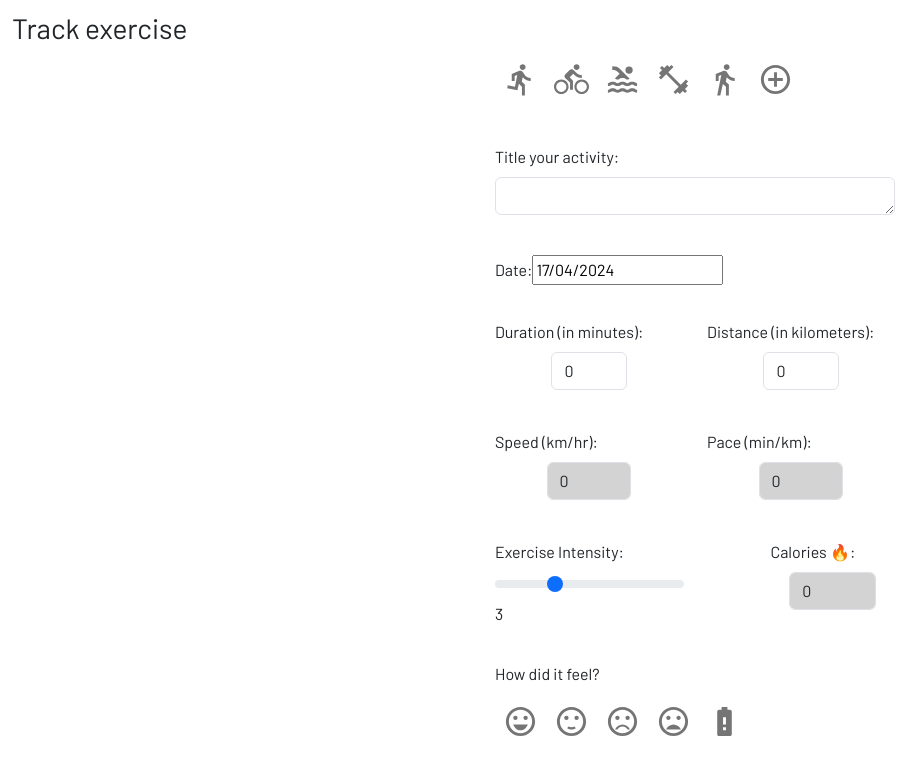
Test: TrackExercise Component › speed calculates correctly
Replace the text in the number field labelled "Distance (in kilometers):" with "10" at (801,371), box x1=763 y1=352 x2=839 y2=390
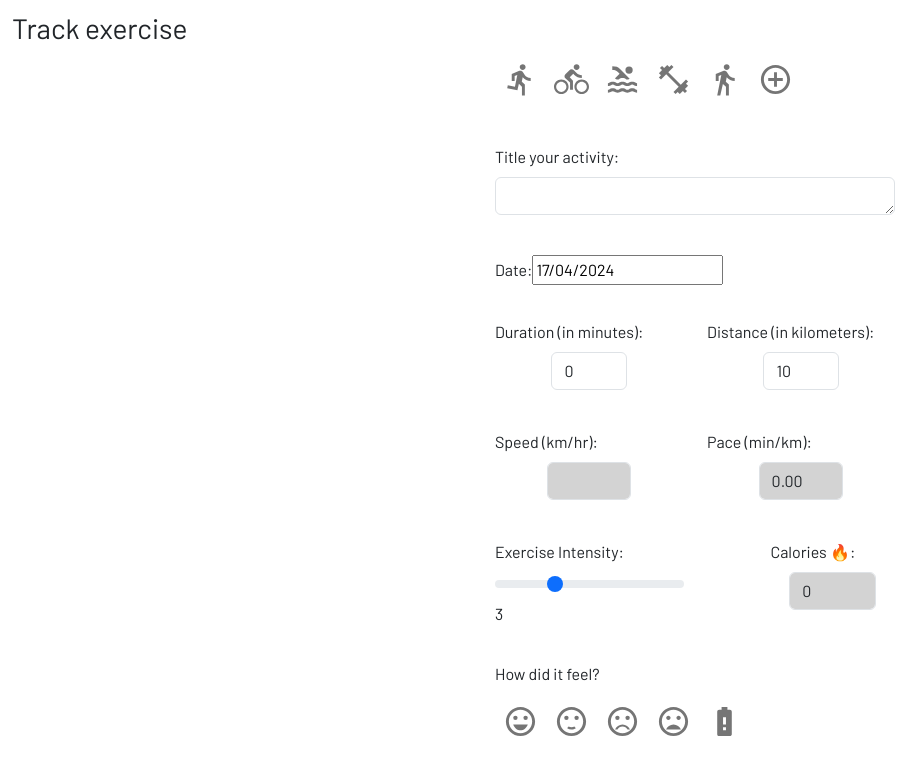
Replace the text in the number field labelled "Duration (in minutes):" with "60" at (589,371), box x1=551 y1=352 x2=627 y2=390
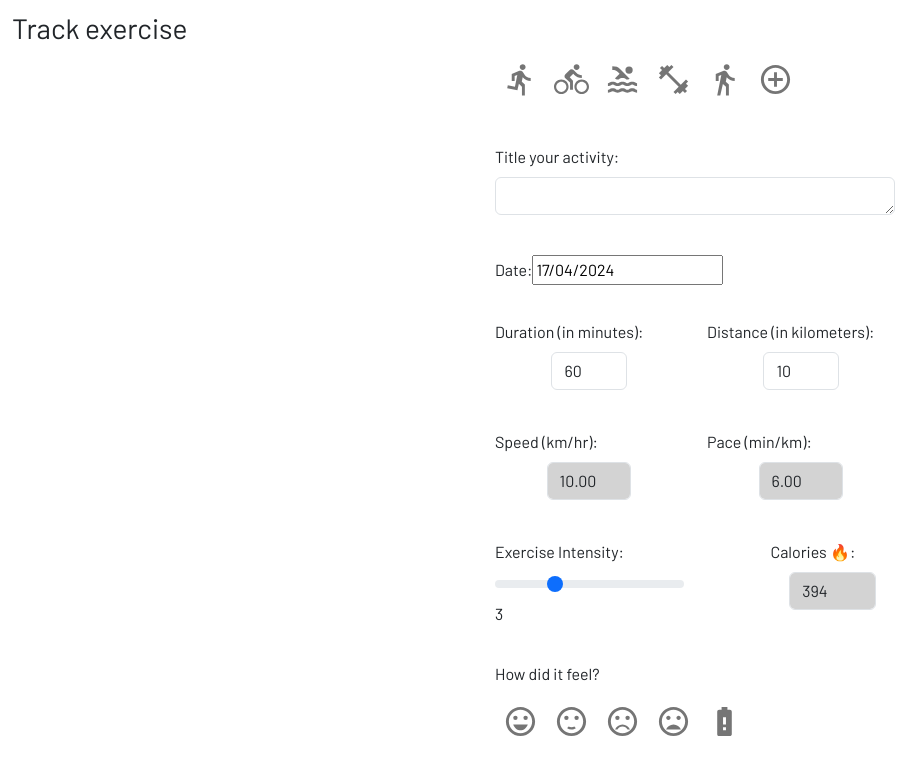
Check: the number field labelled "Speed (km/hr):" holds "10.00", box x1=547 y1=462 x2=631 y2=500
